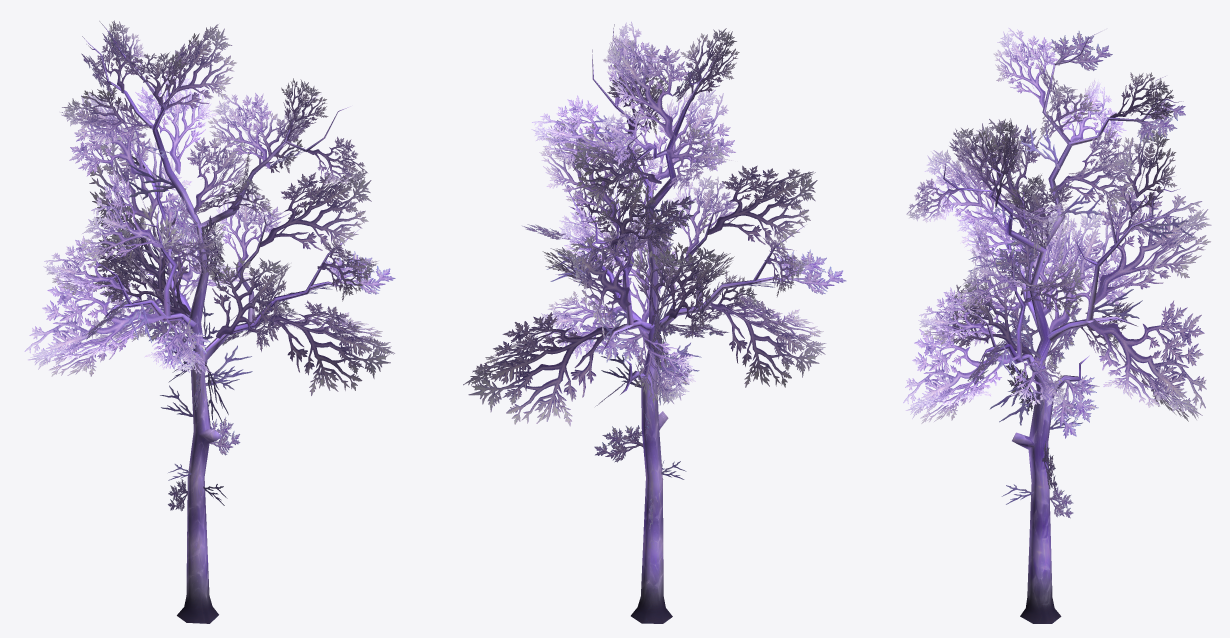
File: crystalsongtree03.obj
The picture shows the model from 3 angles, left to right: view 1: azimuth 30°, elevation 25°; view 2: azimuth 150°, elevation 25°; view 3: azimuth 270°, elevation 25°; orthographic projection. The views are drawn at different scales.
Parts seen in each view (by area): view 1: Crystalsongtree03; view 2: Crystalsongtree03; view 3: Crystalsongtree03.
Part boxes in pixels (x1,y1,x2,y2): Crystalsongtree03: (24,20,395,623); Crystalsongtree03: (463,21,846,623); Crystalsongtree03: (903,28,1211,623).
Bounding box in the file's own units: 34.33 × 55.06 × 28.07.
Materials: 1 (1 with a texture image).
